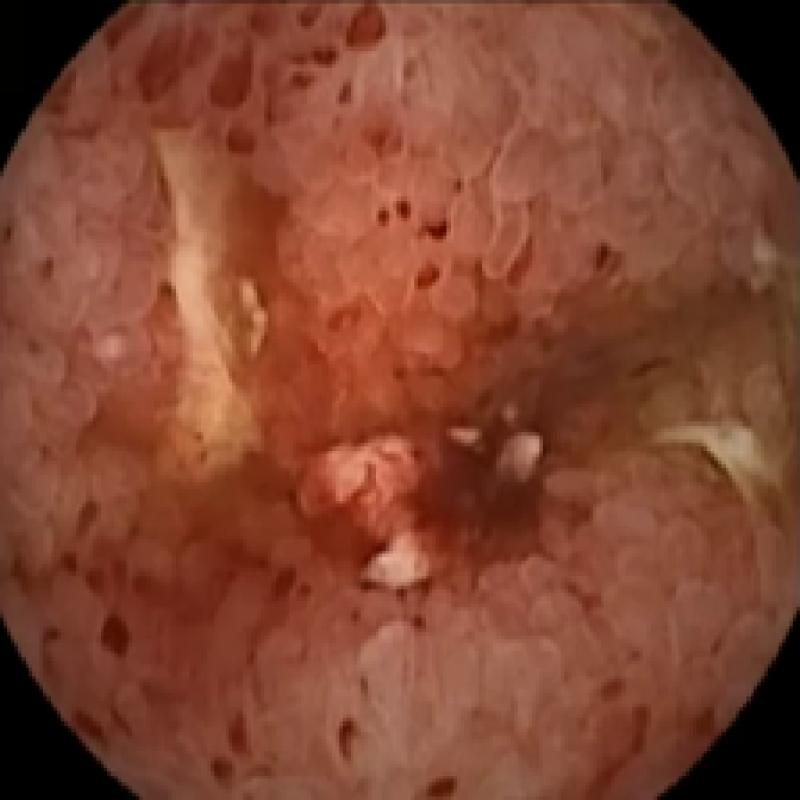bleeding: (94, 286, 707, 788), (161, 0, 439, 236)
